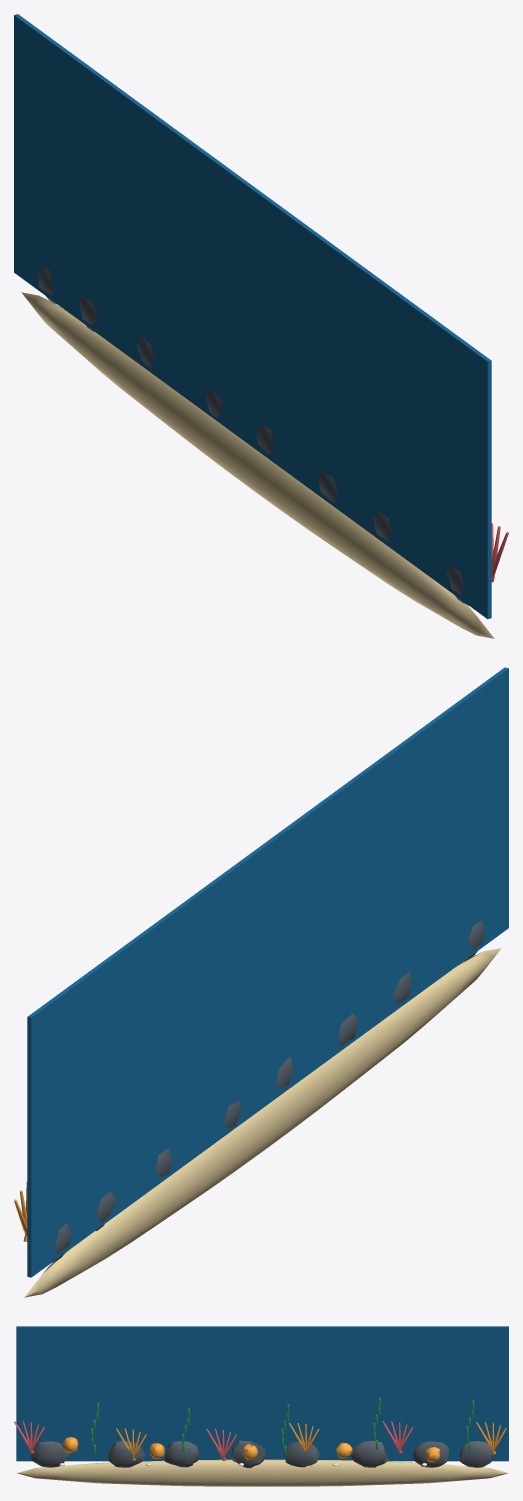
The model's file is BackdropReef.fbx.
3 views of the same model, one above another, from view 1: azimuth 30°, elevation 25°; view 2: azimuth 150°, elevation 25°; view 3: azimuth 270°, elevation 25° (orthographic). The views are drawn at different scales.
Visible parts, largest first — view 1: BackdropReef; view 2: BackdropReef; view 3: BackdropReef.
Part boxes in pixels (<box>): BackdropReef: <box>14,14,508,638</box>; BackdropReef: <box>14,667,508,1297</box>; BackdropReef: <box>14,1326,508,1486</box>.
Size of the model in its own units: 393 by 2840 by 8037.
